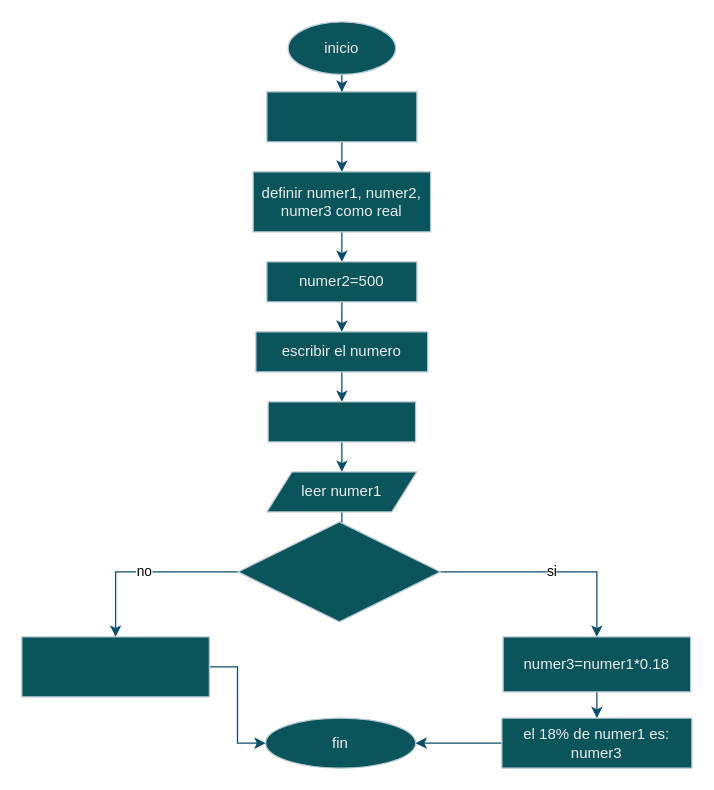
This 714x790 diagram has some shape labels left out. Each missing label, with the centre of its shape:
"el numero numer1 es menor a numer2" goes at (115,666).
"mayor a 500" goes at (341,116).
"numer1>numer2" goes at (339,571).
"si el numero es >500 se calcula el 18%" goes at (341,421).
